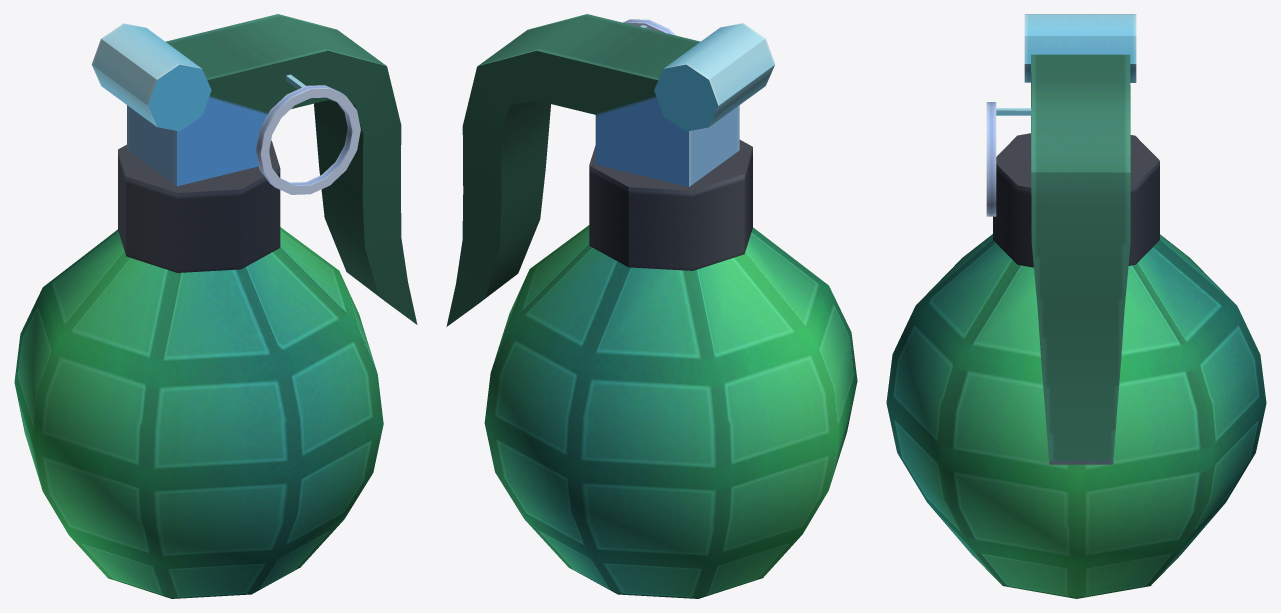
The model's file is Throwables_FragGrenade_Base_0_Mod.FBX.
3 views of the same model, side by side, from view 1: azimuth 30°, elevation 25°; view 2: azimuth 150°, elevation 25°; view 3: azimuth 270°, elevation 25° (orthographic).
Parts seen in each view (by area): view 1: FragGrenade; view 2: FragGrenade; view 3: FragGrenade.
Part boxes in pixels (bbox=[...]): FragGrenade: bbox=[14, 14, 417, 598]; FragGrenade: bbox=[446, 14, 857, 598]; FragGrenade: bbox=[886, 14, 1266, 598].
Bounding box in the file's own units: 19.54 × 26.27 × 17.49.
